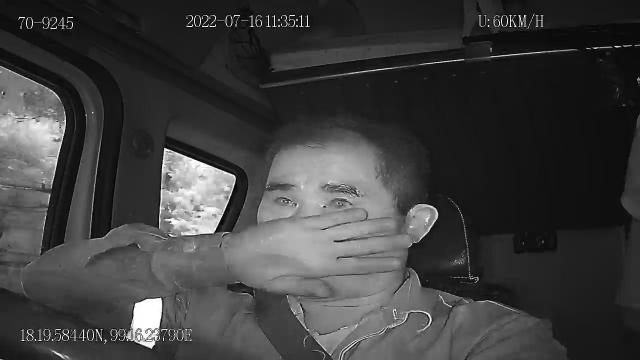SafeDriving: (320, 189, 364, 213), (267, 188, 304, 210)
Seatbelt: (252, 290, 336, 360)
